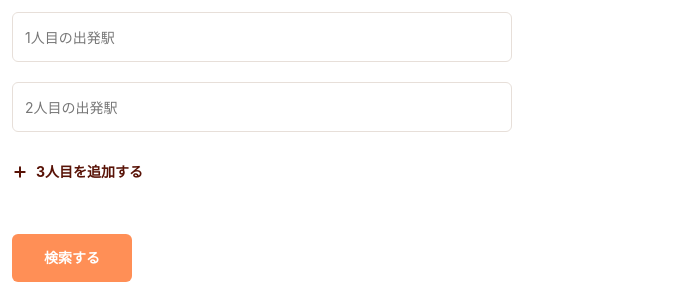
Test: StationSearchForm › 動的行 › 削除ボタンを押したとき、当該フィールドが取り除かれる
Click the button "3人目を追加する": (90, 172) [12,152,512,192]
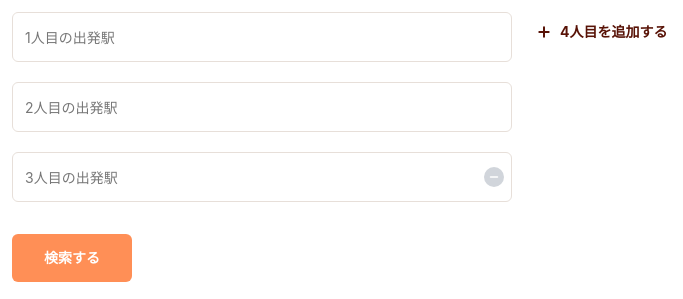
Now the dropdown with placeholder "3人目の出発駅" is shown, box [25,153,499,201]
Click the button named "削除": (494, 177) [484,167,504,187]
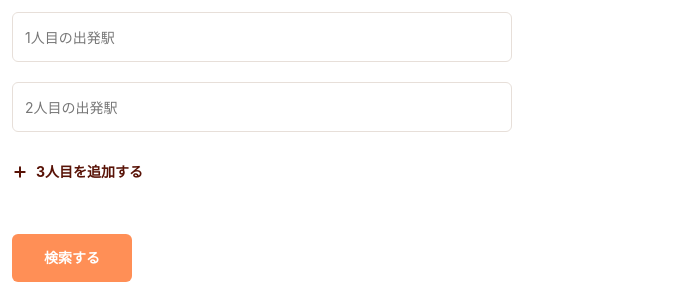
Expected: the dropdown with placeholder "1人目の出発駅" is shown, [25,13,499,61]
Now the dropdown with placeholder "3人目の出発駅" is gone
